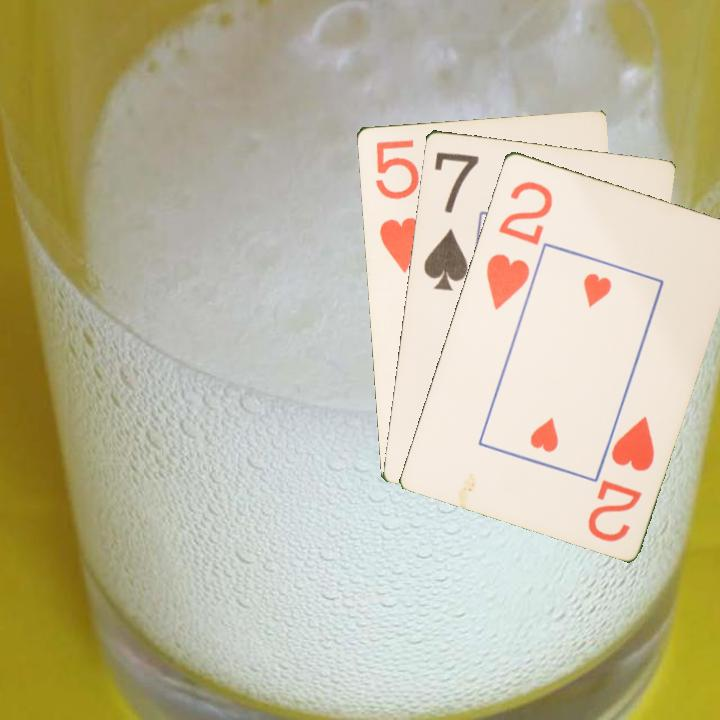2h: (482, 177, 555, 313), (583, 412, 657, 545)
5h: (371, 135, 425, 276)
7s: (419, 147, 482, 293)
